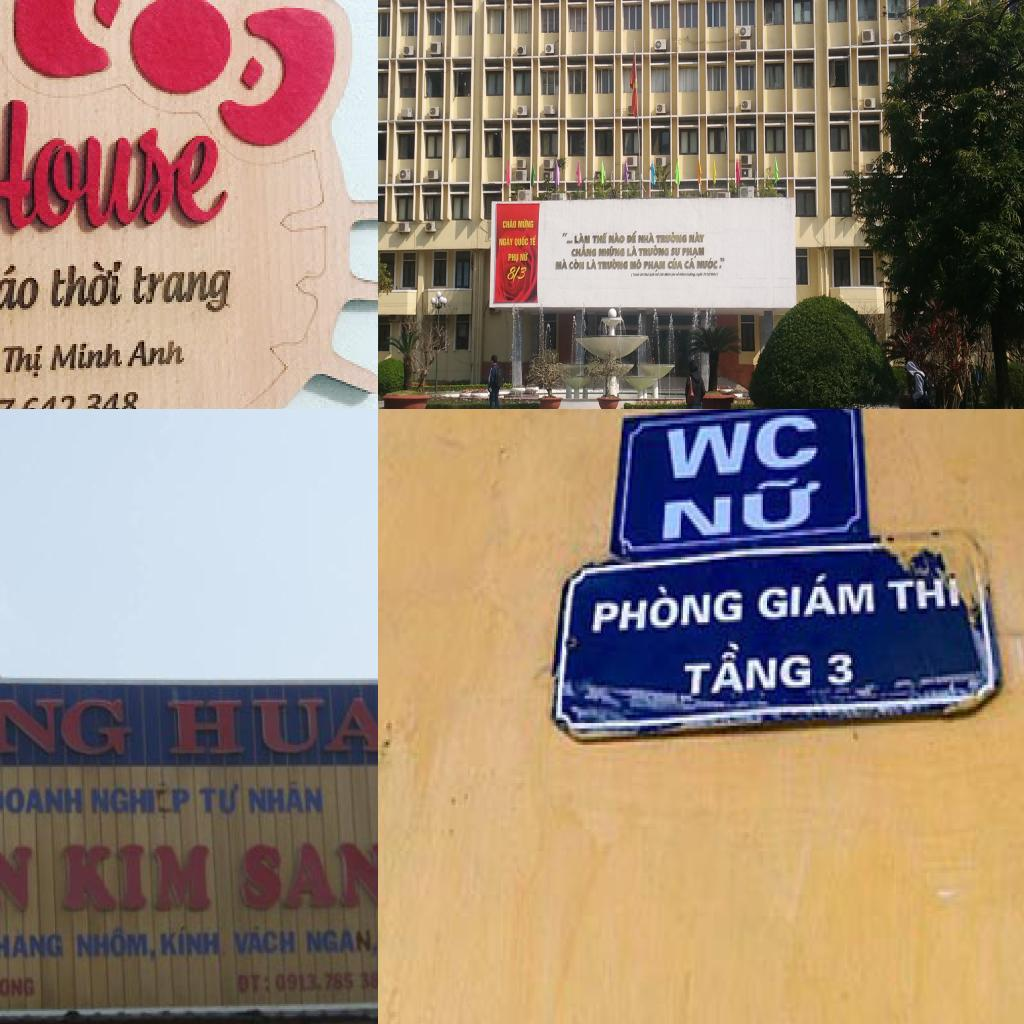text: (0, 90, 236, 242), (164, 695, 378, 758), (662, 410, 824, 486), (658, 476, 828, 544), (60, 844, 215, 915), (589, 573, 748, 639), (239, 840, 378, 913), (679, 633, 816, 707), (0, 693, 133, 760), (754, 568, 880, 628), (130, 258, 240, 320), (44, 252, 128, 314), (888, 573, 964, 620), (50, 336, 128, 378), (0, 823, 34, 918), (76, 926, 158, 965), (247, 777, 325, 815), (0, 258, 42, 318), (275, 970, 378, 994), (0, 787, 85, 816), (126, 336, 190, 372), (306, 927, 378, 958), (2, 336, 48, 384), (231, 926, 297, 958), (160, 924, 222, 958), (0, 930, 65, 961), (90, 788, 158, 816), (198, 782, 240, 815), (0, 973, 37, 1000), (237, 974, 274, 996), (172, 789, 192, 817), (696, 254, 726, 271), (506, 264, 529, 282), (638, 245, 670, 257), (656, 232, 687, 244), (570, 244, 596, 258), (598, 258, 628, 270), (598, 245, 626, 257), (682, 246, 706, 258), (643, 260, 666, 272), (688, 231, 705, 245), (638, 231, 656, 244), (608, 232, 626, 244), (575, 231, 591, 244), (592, 231, 608, 244), (569, 258, 585, 271), (518, 218, 534, 230), (668, 258, 684, 270), (502, 218, 517, 230), (514, 235, 529, 247), (626, 230, 638, 244), (554, 258, 568, 270), (498, 236, 514, 246), (561, 231, 573, 244), (508, 252, 520, 264), (626, 244, 638, 256), (630, 258, 642, 270), (684, 258, 696, 270), (586, 258, 597, 270), (670, 246, 682, 256), (520, 250, 528, 262), (530, 234, 537, 246), (630, 272, 640, 278), (686, 272, 696, 277), (696, 272, 704, 278), (644, 272, 650, 278), (659, 272, 665, 278), (680, 271, 686, 277), (664, 272, 671, 277), (648, 272, 654, 277), (671, 272, 676, 277), (640, 272, 644, 277), (655, 272, 660, 276), (675, 272, 680, 276)
